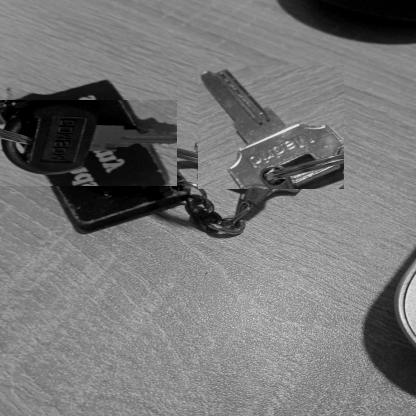key: (198, 65, 344, 189), (0, 100, 177, 186)
